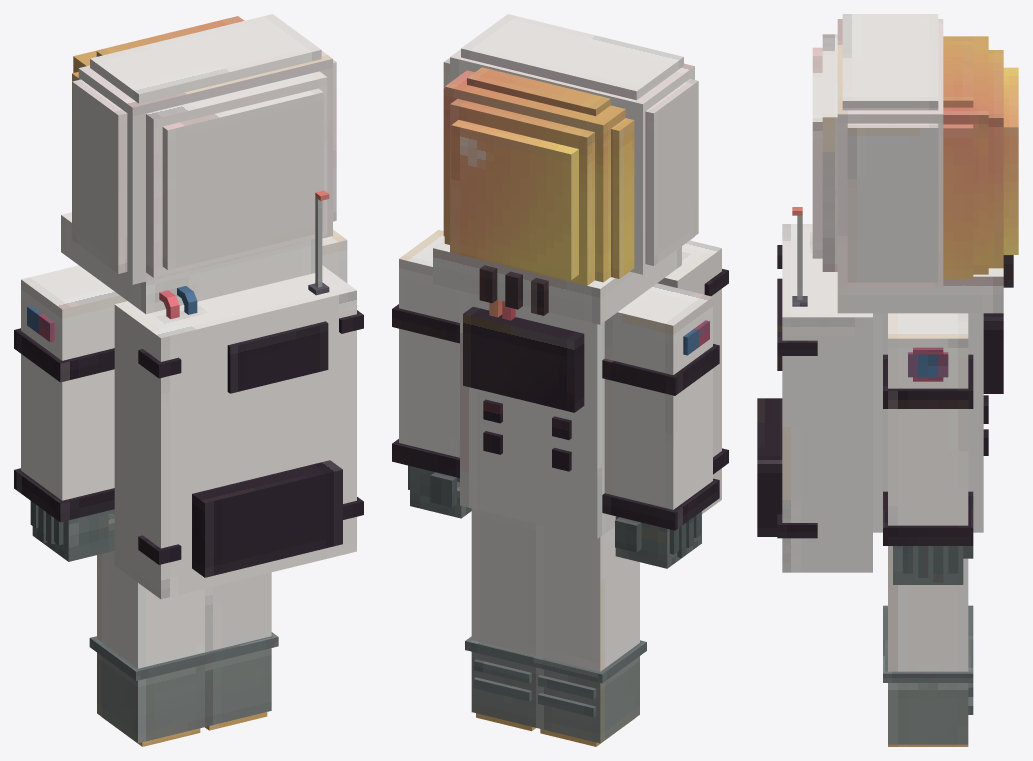
The model's file is astronaut-e4bb.glb.
The picture shows the model from 3 angles, left to right: view 1: azimuth 30°, elevation 25°; view 2: azimuth 150°, elevation 25°; view 3: azimuth 270°, elevation 25°; orthographic projection. The views are drawn at different scales.
Visible parts, largest first — view 1: 53fc6906-4c55-9d5e-9095-25cf27e7a0bc_76, 224e3a20-272e-39ab-d43b-880ef743b226_78, 8c002247-9446-8119-fa41-720f05982adb_71, 16f4633d-f932-48db-cd45-2297a3409489_43, 85fe8fd8-acb6-1da4-7fa5-b6817f5a8ad9_50, 9dd723d0-11c3-48ab-e36c-710463a62f38_82, 58fb0dd0-5123-e7f5-562a-8c6b08fad819_81, fa9cdeb4-935a-0958-a5aa-4201ce4597c4_42, 0bbd4161-5273-879a-323d-3d6d13709c5f_92, 4971cbaf-1f1b-2b0e-6626-98ec3c442661_79, 2470f962-490c-d2da-833a-6d3380a776c7_83, c20dcab8-374b-b064-5941-e383c8f3ebea_49 (+15 smaller); view 2: 9e80edd9-c0f1-80e2-cf81-e4e1b86b9d53_77, 8c002247-9446-8119-fa41-720f05982adb_71, 16f4633d-f932-48db-cd45-2297a3409489_43, 2fae398a-1550-9bdf-7824-4a8f8bb1e9f4_88, fa9cdeb4-935a-0958-a5aa-4201ce4597c4_42, a723224a-d25c-61b1-dfce-d99fa8faff37_70, 9dd723d0-11c3-48ab-e36c-710463a62f38_82, 5ae8e2ec-6040-662d-53bd-06010dcb3fd6_7, 58fb0dd0-5123-e7f5-562a-8c6b08fad819_81, 4971cbaf-1f1b-2b0e-6626-98ec3c442661_79, 1b3b4261-9bad-e880-6d23-de33d992d4f1_93, 0bbd4161-5273-879a-323d-3d6d13709c5f_92 (+27 smaller); view 3: 53fc6906-4c55-9d5e-9095-25cf27e7a0bc_76, 6c54794d-65a9-68d5-4ed8-6e5cad17e7cf_80, a723224a-d25c-61b1-dfce-d99fa8faff37_70, fa9cdeb4-935a-0958-a5aa-4201ce4597c4_42, 9dd723d0-11c3-48ab-e36c-710463a62f38_82, 0bbd4161-5273-879a-323d-3d6d13709c5f_92, 9e80edd9-c0f1-80e2-cf81-e4e1b86b9d53_77, 4971cbaf-1f1b-2b0e-6626-98ec3c442661_79, cafda705-7426-f676-a8bc-77f494bd1847_86, 2470f962-490c-d2da-833a-6d3380a776c7_83, 85fe8fd8-acb6-1da4-7fa5-b6817f5a8ad9_50, 1b3b4261-9bad-e880-6d23-de33d992d4f1_93 (+15 smaller).
Boxes of the visible parts, box(x1,y1,x2,y2) form: 53fc6906-4c55-9d5e-9095-25cf27e7a0bc_76: box(114, 265, 356, 599); 224e3a20-272e-39ab-d43b-880ef743b226_78: box(162, 88, 323, 269); 8c002247-9446-8119-fa41-720f05982adb_71: box(21, 265, 127, 500); 16f4633d-f932-48db-cd45-2297a3409489_43: box(97, 513, 204, 743); 85fe8fd8-acb6-1da4-7fa5-b6817f5a8ad9_50: box(192, 460, 342, 577); 9dd723d0-11c3-48ab-e36c-710463a62f38_82: box(90, 14, 321, 103); 58fb0dd0-5123-e7f5-562a-8c6b08fad819_81: box(72, 79, 127, 273); fa9cdeb4-935a-0958-a5aa-4201ce4597c4_42: box(205, 572, 271, 726); 0bbd4161-5273-879a-323d-3d6d13709c5f_92: box(78, 51, 332, 284); 4971cbaf-1f1b-2b0e-6626-98ec3c442661_79: box(61, 212, 315, 313); 2470f962-490c-d2da-833a-6d3380a776c7_83: box(146, 71, 327, 277); c20dcab8-374b-b064-5941-e383c8f3ebea_49: box(227, 321, 328, 393); 9e80edd9-c0f1-80e2-cf81-e4e1b86b9d53_77: box(460, 290, 615, 538); 8c002247-9446-8119-fa41-720f05982adb_71: box(604, 283, 712, 509); 16f4633d-f932-48db-cd45-2297a3409489_43: box(536, 524, 639, 743); 2fae398a-1550-9bdf-7824-4a8f8bb1e9f4_88: box(451, 120, 578, 279); fa9cdeb4-935a-0958-a5aa-4201ce4597c4_42: box(471, 508, 535, 727); a723224a-d25c-61b1-dfce-d99fa8faff37_70: box(399, 230, 459, 457); 9dd723d0-11c3-48ab-e36c-710463a62f38_82: box(461, 14, 683, 100); 5ae8e2ec-6040-662d-53bd-06010dcb3fd6_7: box(463, 306, 584, 412); 58fb0dd0-5123-e7f5-562a-8c6b08fad819_81: box(645, 79, 698, 265); 4971cbaf-1f1b-2b0e-6626-98ec3c442661_79: box(433, 240, 681, 324); 1b3b4261-9bad-e880-6d23-de33d992d4f1_93: box(450, 98, 594, 285); 0bbd4161-5273-879a-323d-3d6d13709c5f_92: box(450, 49, 694, 274); 53fc6906-4c55-9d5e-9095-25cf27e7a0bc_76: box(782, 224, 872, 572); 6c54794d-65a9-68d5-4ed8-6e5cad17e7cf_80: box(847, 123, 938, 282); a723224a-d25c-61b1-dfce-d99fa8faff37_70: box(888, 313, 968, 525); fa9cdeb4-935a-0958-a5aa-4201ce4597c4_42: box(888, 546, 968, 744); 9dd723d0-11c3-48ab-e36c-710463a62f38_82: box(842, 14, 938, 110); 0bbd4161-5273-879a-323d-3d6d13709c5f_92: box(837, 19, 943, 287); 9e80edd9-c0f1-80e2-cf81-e4e1b86b9d53_77: box(873, 313, 983, 532); 4971cbaf-1f1b-2b0e-6626-98ec3c442661_79: box(837, 268, 1003, 313); cafda705-7426-f676-a8bc-77f494bd1847_86: box(943, 124, 973, 278); 2470f962-490c-d2da-833a-6d3380a776c7_83: box(822, 34, 837, 271); 85fe8fd8-acb6-1da4-7fa5-b6817f5a8ad9_50: box(757, 398, 782, 536); 1b3b4261-9bad-e880-6d23-de33d992d4f1_93: box(988, 50, 1003, 268).
Size of the model in its own units: 16.5 by 36.25 by 13.
1 material, 1 textured.
